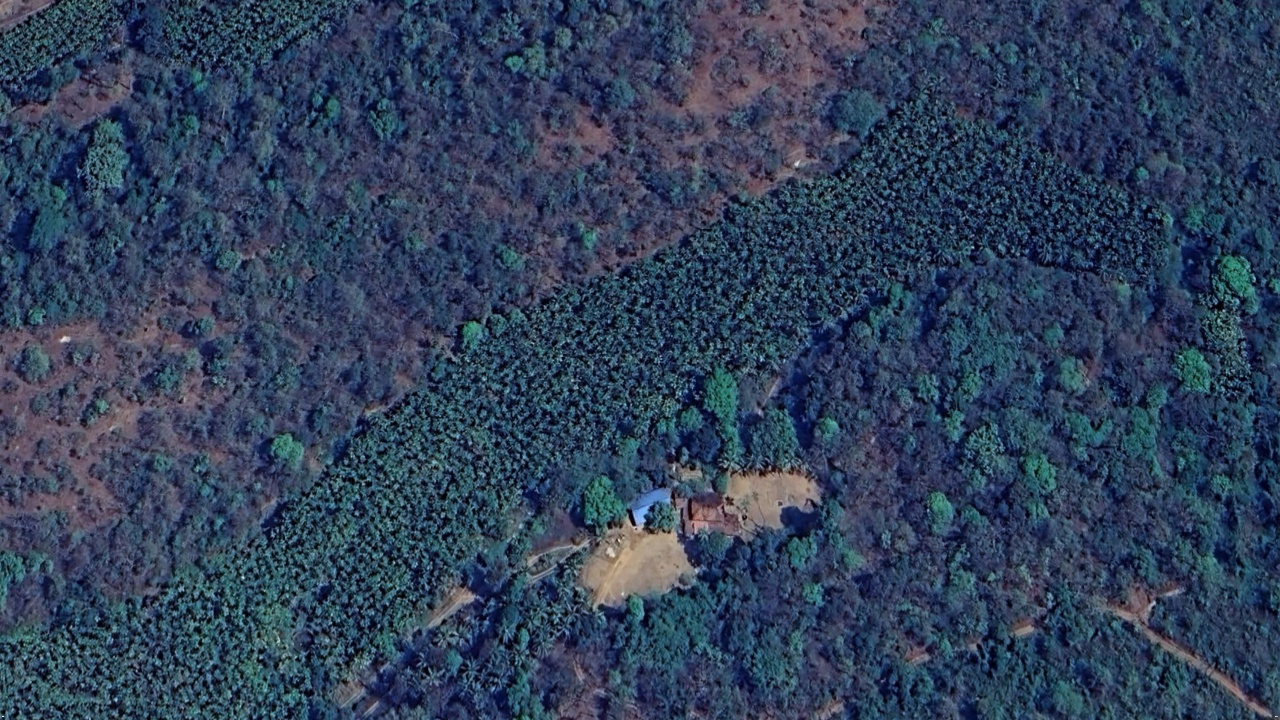arecanut: (7, 23, 1193, 712), (14, 14, 350, 92), (1191, 253, 1261, 430)
